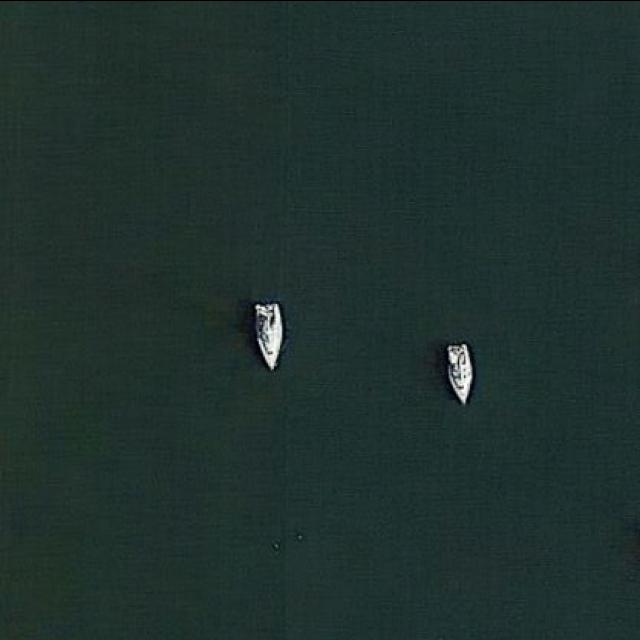ship: (250, 298, 288, 374), (442, 340, 477, 408)
